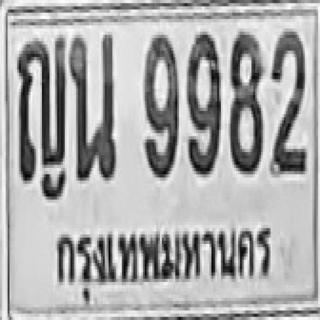A13: (15, 33, 67, 179)
A25: (70, 30, 115, 179)
N02: (270, 30, 307, 173)
N08: (229, 30, 263, 173)
N09: (143, 32, 179, 177), (187, 30, 221, 176)
P04: (52, 215, 272, 290)
